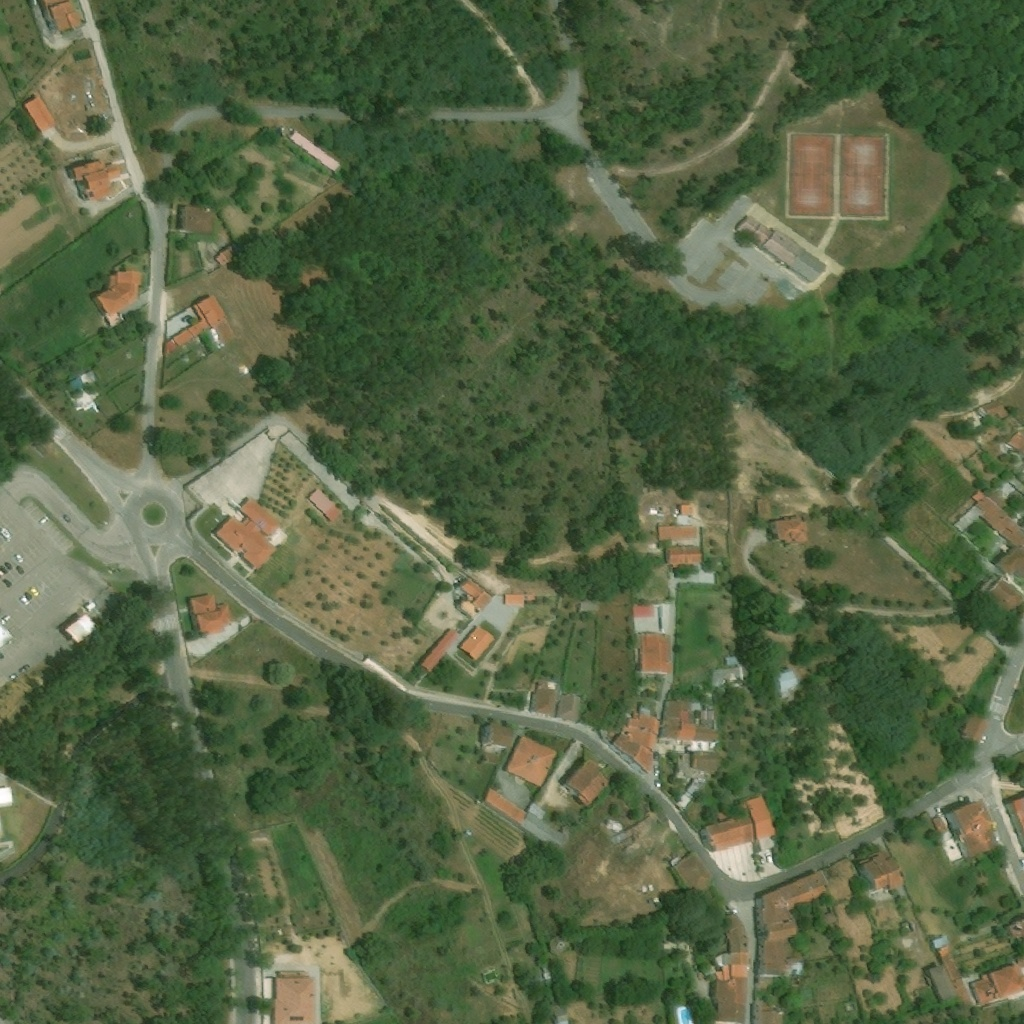0 no-damage: (214, 496, 286, 570), (758, 869, 828, 940), (953, 494, 1023, 550), (942, 798, 1001, 863), (761, 230, 827, 282), (505, 734, 557, 787), (659, 698, 723, 741), (95, 269, 141, 327), (968, 959, 1023, 1006), (667, 849, 716, 899), (564, 757, 611, 808), (289, 130, 341, 172), (272, 973, 315, 1023), (71, 158, 121, 200), (186, 593, 231, 638), (702, 813, 753, 852), (855, 849, 900, 892), (611, 732, 653, 774), (419, 626, 460, 669), (632, 631, 673, 674), (187, 293, 227, 337), (744, 795, 776, 850), (712, 975, 747, 1023), (521, 812, 567, 848), (479, 723, 515, 766), (483, 789, 527, 824), (732, 213, 774, 249), (38, 0, 83, 33), (458, 625, 495, 660), (988, 575, 1023, 611), (24, 95, 57, 133), (307, 487, 342, 522), (772, 513, 810, 545), (928, 963, 957, 1002), (178, 202, 214, 233), (721, 913, 748, 954), (529, 676, 557, 715), (60, 613, 92, 645), (622, 723, 657, 752), (762, 936, 798, 963), (628, 704, 660, 734), (960, 713, 988, 746), (993, 545, 1023, 575), (748, 998, 783, 1023), (658, 525, 699, 546), (712, 666, 744, 691), (774, 668, 798, 699), (666, 547, 703, 567), (978, 397, 1009, 419), (691, 753, 720, 775), (951, 978, 972, 1008), (555, 694, 580, 719), (940, 953, 961, 981), (214, 244, 238, 267), (460, 578, 482, 598), (760, 962, 785, 978), (474, 589, 492, 610), (701, 527, 712, 559), (527, 801, 546, 819), (172, 311, 190, 330), (173, 329, 193, 346), (551, 1003, 568, 1023), (757, 498, 770, 520), (729, 964, 748, 978), (578, 601, 600, 613), (504, 593, 524, 606), (728, 951, 748, 964), (0, 788, 13, 807), (69, 378, 83, 393), (163, 341, 177, 355), (930, 816, 944, 830), (714, 953, 729, 966), (971, 489, 985, 502), (81, 601, 94, 613), (937, 945, 949, 956), (725, 655, 737, 665), (813, 904, 826, 913), (722, 965, 729, 981), (682, 505, 692, 516), (524, 593, 536, 601), (700, 719, 713, 726), (560, 825, 569, 835), (707, 710, 714, 719), (701, 710, 707, 719)
4 un-classified: (1004, 796, 1023, 856), (788, 561, 808, 582), (1007, 429, 1023, 453), (1005, 920, 1023, 941)
